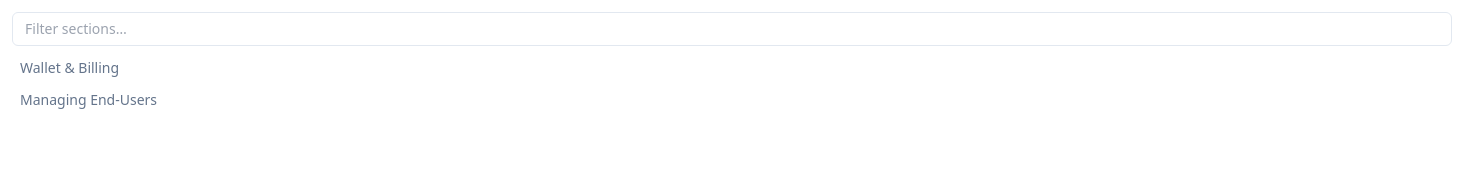
Scenario: GuideTableOfContents › filters entries by the search box
Type "wallet" into the field.
click(732, 29); type("wallet")  # box [12,12,1452,46]
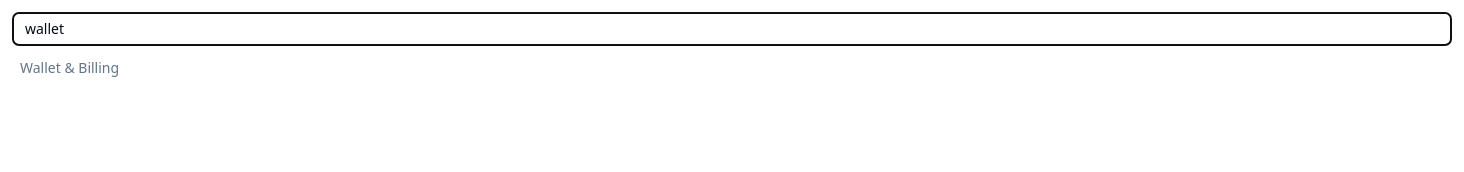
Expected: the link "Wallet & Billing" is shown, [20,58,119,77]
Expected: the link "Managing End-Users" is gone
